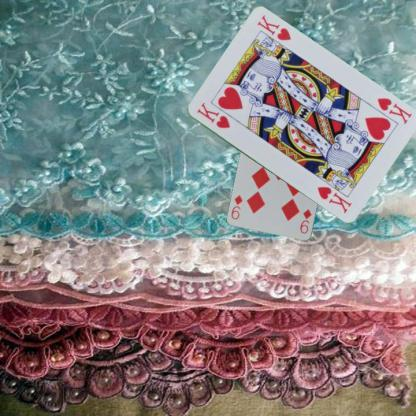9d: (298, 206, 313, 235)
Kh: (375, 95, 413, 126), (194, 99, 231, 130)
